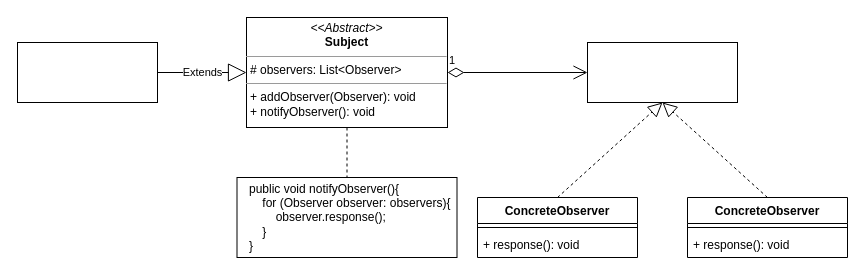
Some shapes in this 865 by 278 pixel diagram are drawn without their labels. The shapes that lost their labels are listed below. From the top down, each one's centre as x and y in pixels, then its label:
At point (87, 72): "ConcreteSubject".
At point (662, 72): "<<Interface>> Observer + response(): void".
